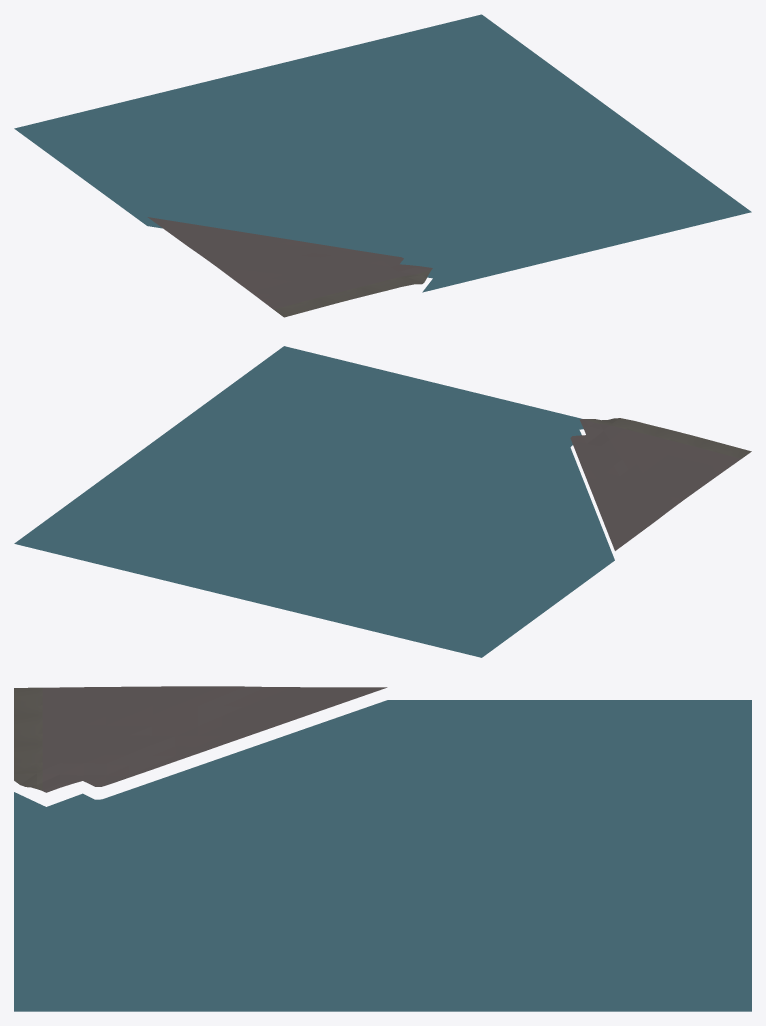
The picture shows the model from 3 angles, top to bottom: view 1: azimuth 30°, elevation 25°; view 2: azimuth 150°, elevation 25°; view 3: azimuth 270°, elevation 25°; orthographic projection. The views are drawn at different scales.
Parts seen in each view (by area): view 1: c_p02_p05; view 2: c_p02_p05; view 3: c_p02_p05.
Boxes of the visible parts, bbox=[...] form: c_p02_p05: bbox=[14, 14, 751, 317]; c_p02_p05: bbox=[14, 346, 751, 657]; c_p02_p05: bbox=[14, 686, 751, 1011].
Bounding box in the file's own units: 128 × 2.79 × 128.
